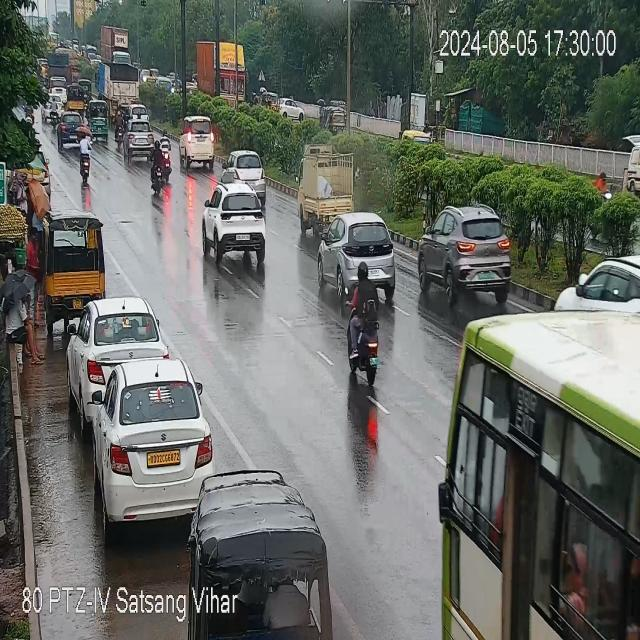2-wheelers: (338, 253, 389, 417), (78, 130, 99, 187), (112, 102, 130, 155), (147, 137, 162, 195), (19, 103, 39, 140), (160, 126, 173, 177), (48, 100, 59, 132)
auto: (46, 215, 111, 312), (316, 102, 350, 132), (89, 93, 110, 141), (65, 81, 84, 116)
bus: (434, 303, 640, 640)
car: (102, 362, 208, 516), (69, 296, 160, 429), (430, 198, 520, 304), (320, 214, 402, 304), (200, 170, 269, 270), (551, 253, 640, 318), (222, 141, 270, 201), (178, 110, 218, 170), (618, 128, 640, 192), (126, 115, 153, 162), (56, 107, 82, 146), (281, 96, 308, 119)
pedestrian: (0, 267, 39, 369), (26, 224, 47, 342), (25, 180, 44, 223), (16, 173, 28, 216)
truck: (295, 142, 361, 235), (196, 36, 247, 100), (101, 57, 145, 103), (101, 21, 136, 62)
